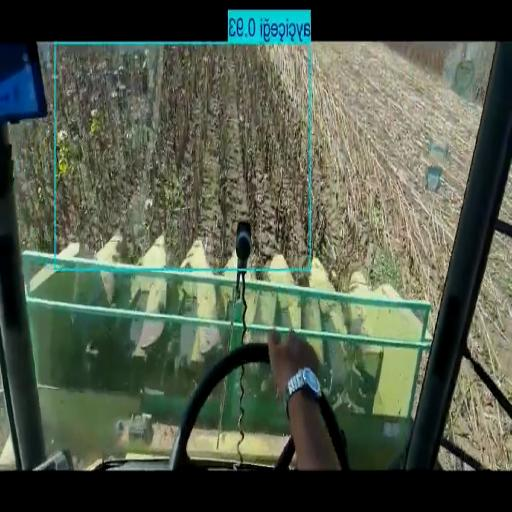ayc: (53, 46, 366, 289), (34, 308, 229, 396), (50, 270, 231, 318)
